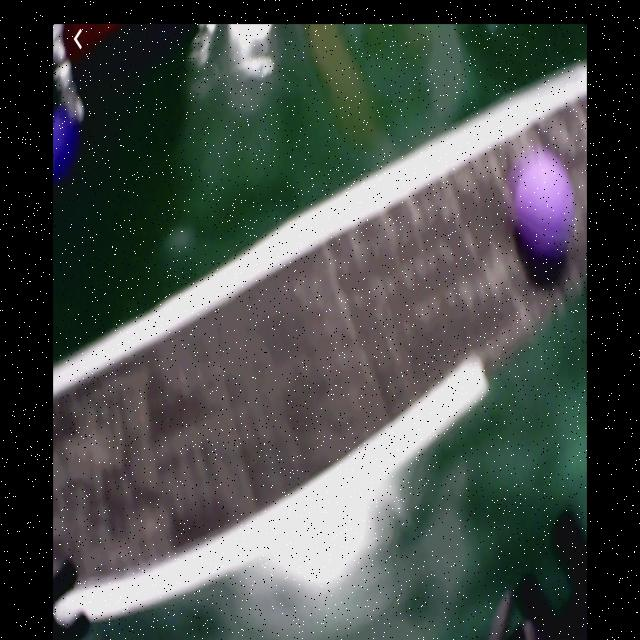ball: (515, 160, 575, 260), (54, 109, 76, 182)
